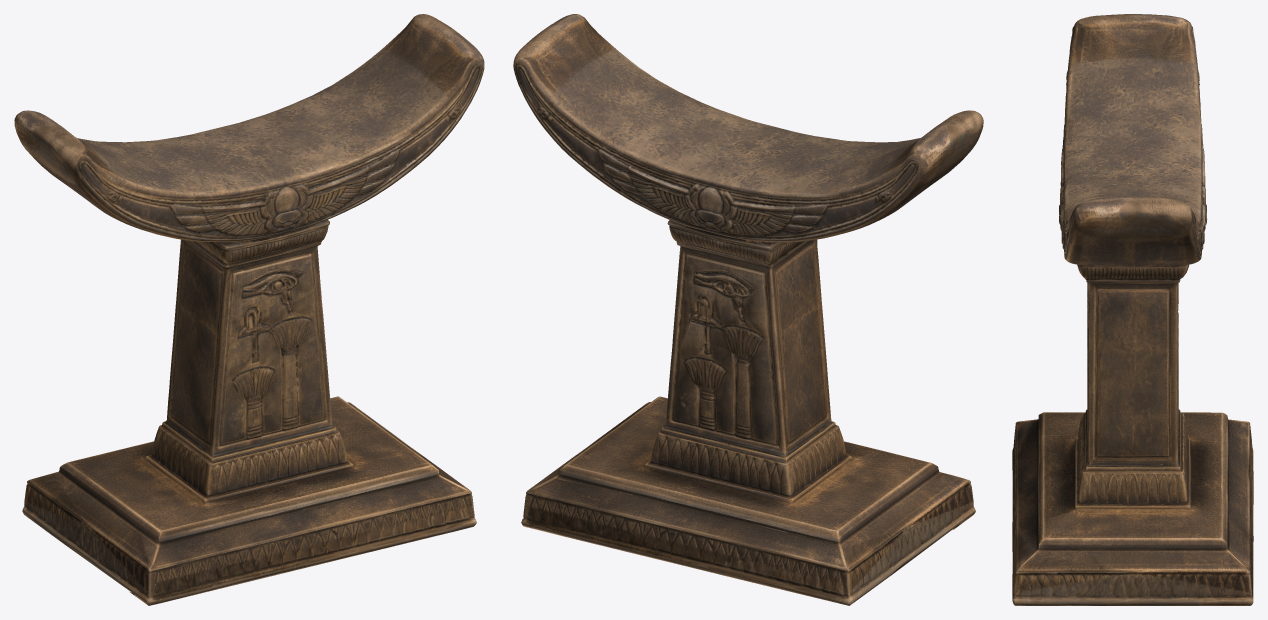
File: WF_EgyptianTombV2_Headrest.fbx
3 renders of one model, left to right at view 1: azimuth 30°, elevation 25°; view 2: azimuth 150°, elevation 25°; view 3: azimuth 270°, elevation 25°, orthographic. The views are drawn at different scales.
Parts seen in each view (by area): view 1: Mesh1.0; view 2: Mesh1.0; view 3: Mesh1.0.
Boxes of the visible parts, x1,y1,x2,y2 form: Mesh1.0: (14,14,484,605); Mesh1.0: (513,14,983,605); Mesh1.0: (1012,14,1253,605).
Bounding box in the file's own units: 189 × 191 × 98.7.
1 material, 1 textured.
